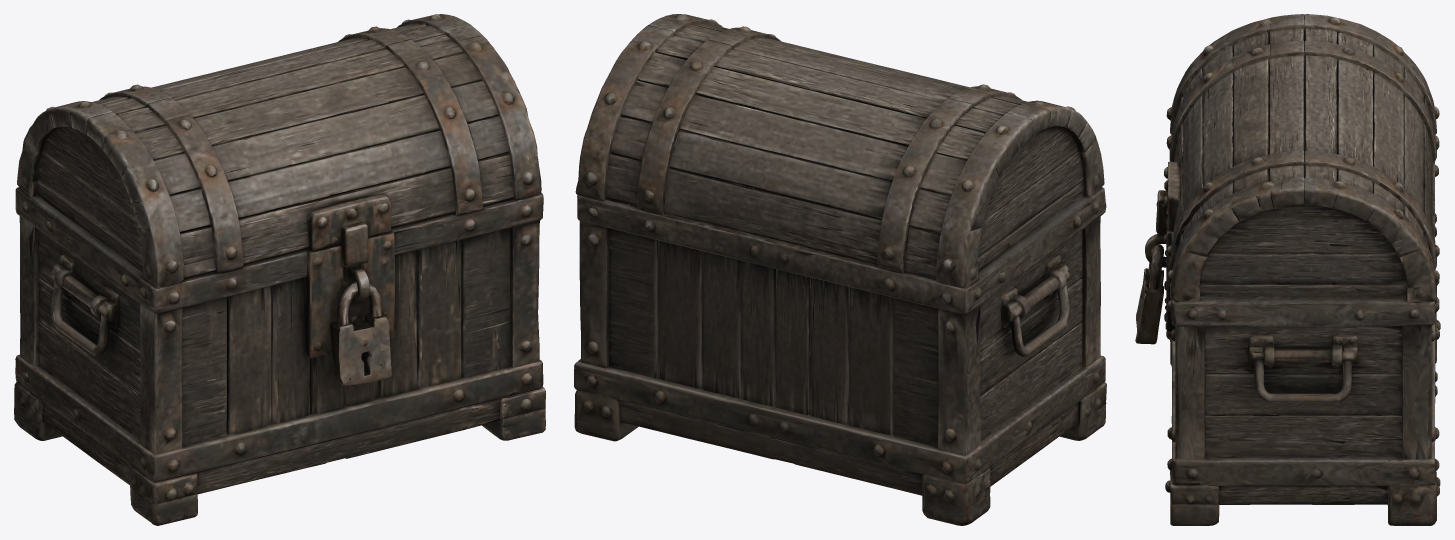
File: 05_chest.glb
3 views of the same model, side by side, from view 1: azimuth 30°, elevation 25°; view 2: azimuth 150°, elevation 25°; view 3: azimuth 270°, elevation 25° (orthographic). The views are drawn at different scales.
Parts seen in each view (by area): view 1: tripo_05_chest; view 2: tripo_05_chest; view 3: tripo_05_chest.
Boxes of the visible parts, bbox=[...] form: tripo_05_chest: bbox=[14, 14, 545, 525]; tripo_05_chest: bbox=[574, 14, 1106, 525]; tripo_05_chest: bbox=[1135, 14, 1440, 525].
Bounding box in the file's own units: 1.21 × 0.9999 × 0.8223.
1 material, 1 textured.
